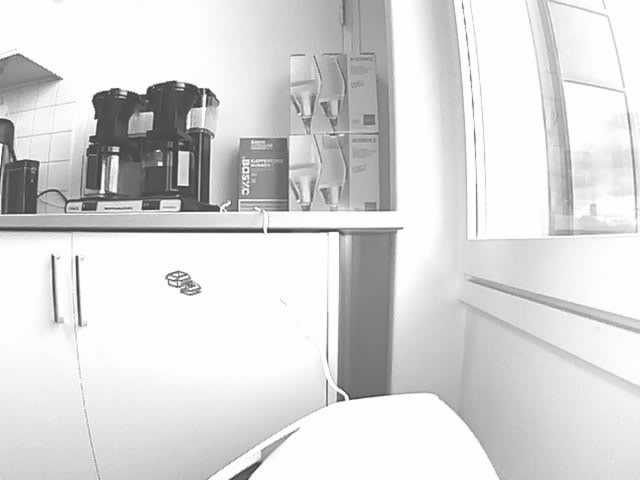empty coffee: (84, 144, 130, 197)
not empty coffee: (142, 141, 198, 194)
